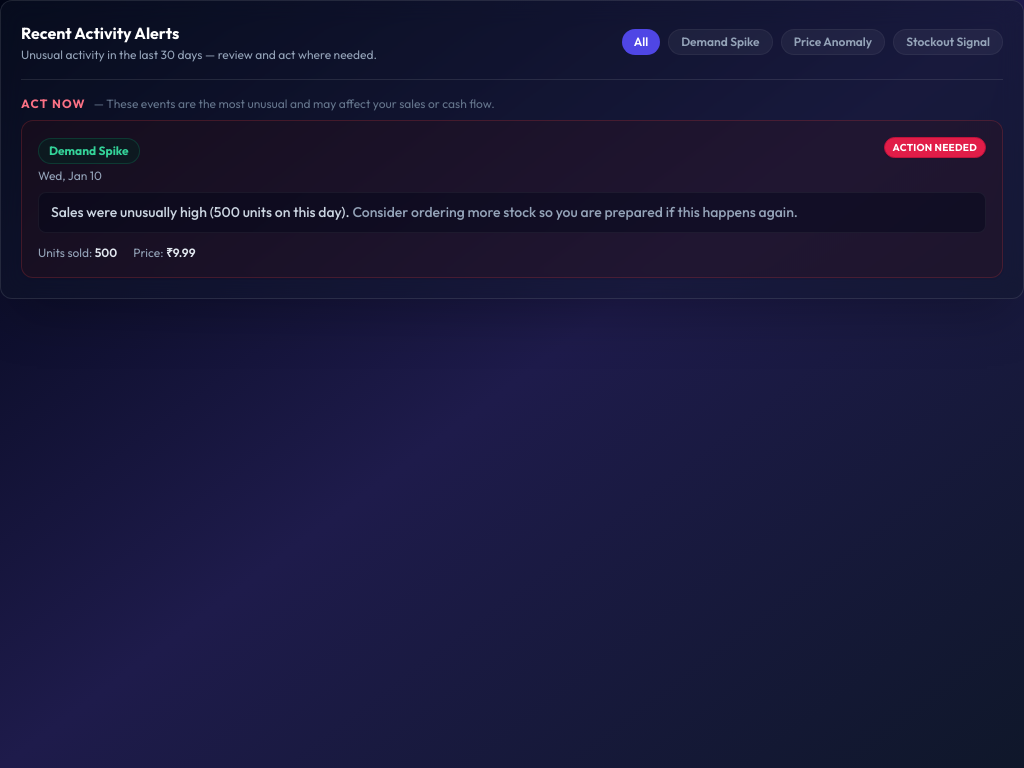
Test: AnomalyTable › empty state › displays empty state message when filter produces no results
The width and height of the screenshot is (1024, 768).
What coordinates should you click on to do the following:
click the button "Price Anomaly"
I would click on:
 (833, 42)
Its box is [781, 29, 885, 55].
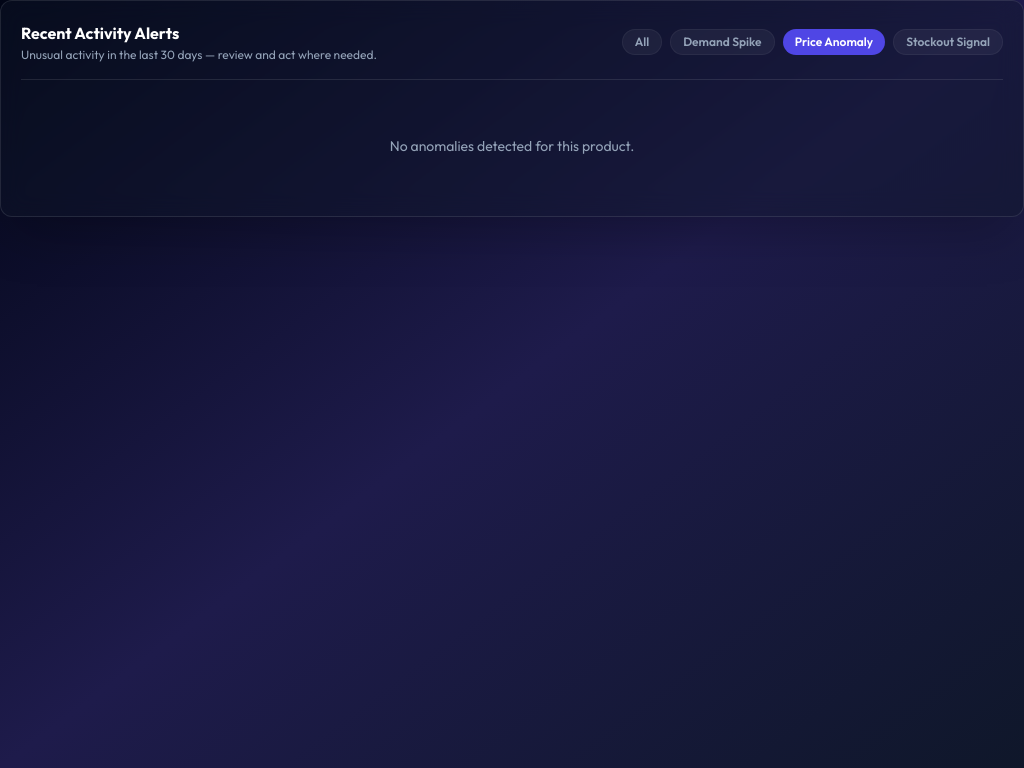
expect the text "No anomalies detected for this product." is shown: met, box [390, 137, 634, 155]
